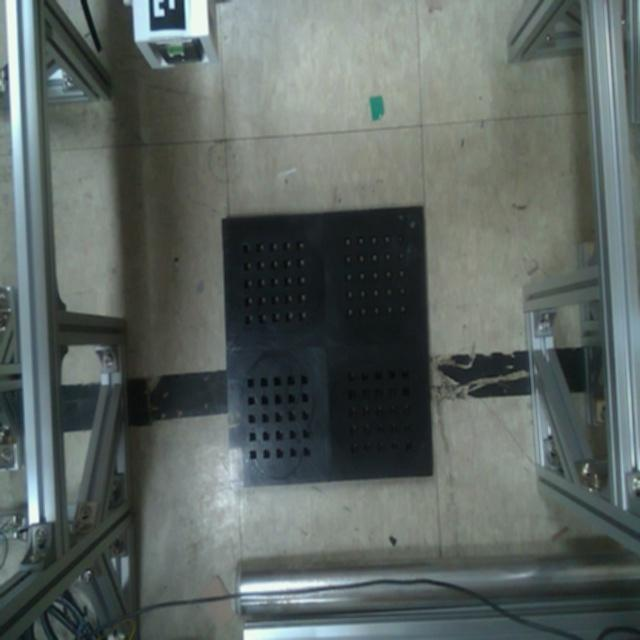pallet: (220, 201, 432, 494)
